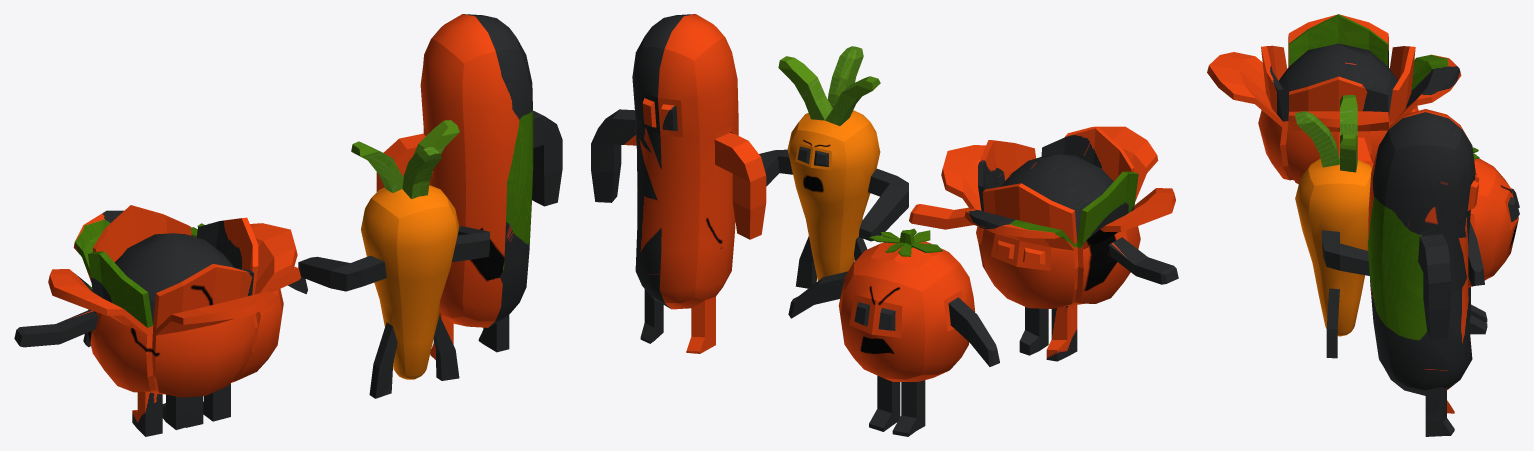
File: Vegetales.fbx
The picture shows the model from 3 angles, left to right: view 1: azimuth 30°, elevation 25°; view 2: azimuth 150°, elevation 25°; view 3: azimuth 270°, elevation 25°; orthographic projection. The views are drawn at different scales.
Parts seen in each view (by area): view 1: Box002, Box004, Box001, Box003; view 2: Box004, Box002, Box003, Box001; view 3: Box004, Box002, Box001, Box003.
Part boxes in pixels (x1,y1,x2,y2): Box002: (14,205,301,436); Box004: (376,14,562,359); Box001: (298,120,489,398); Box003: (83,223,307,427); Box004: (591,14,766,353); Box002: (909,126,1178,361); Box003: (788,228,999,436); Box001: (759,46,908,288); Box004: (1368,109,1479,436); Box002: (1207,14,1461,184); Box001: (1295,95,1372,358); Box003: (1468,147,1519,334).
Bounding box in the file's own units: 133 × 78.54 × 68.68.
